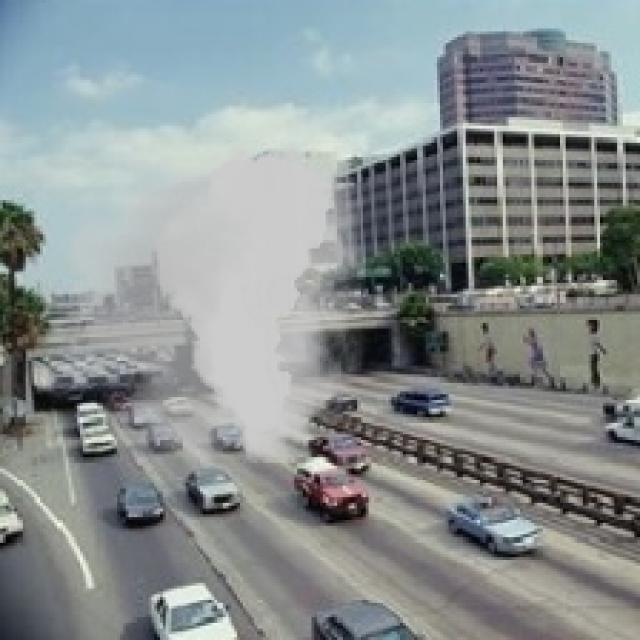smoke: (23, 131, 394, 486)
